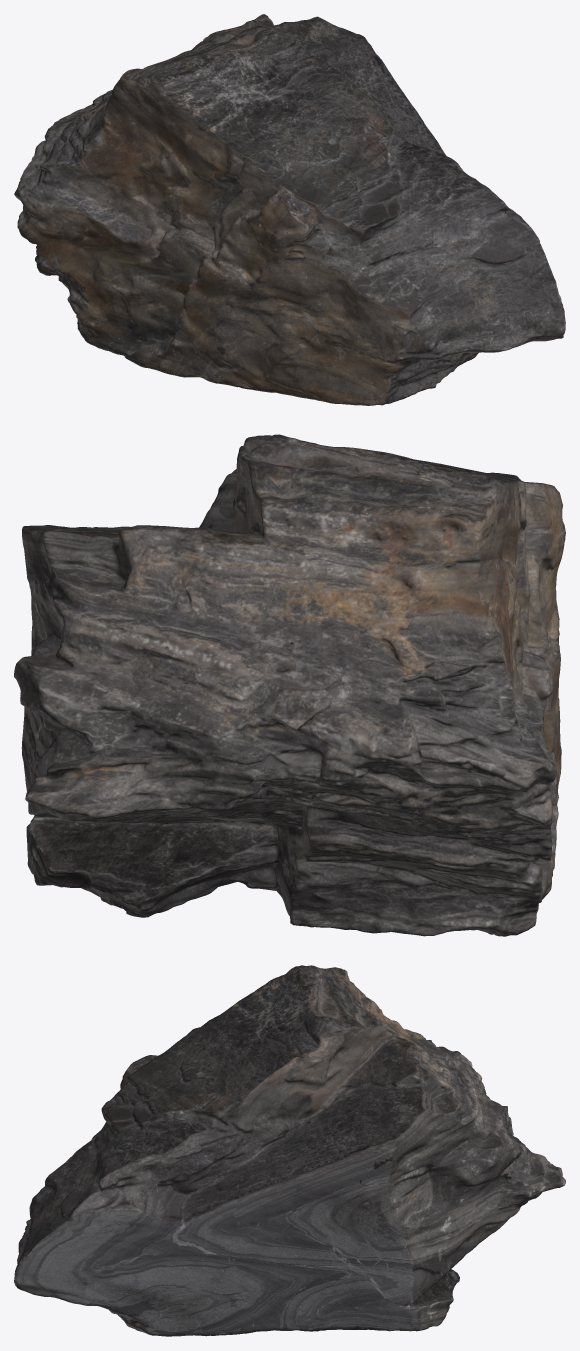
File: Main.glb
3 views of the same model, one above another, from view 1: azimuth 30°, elevation 25°; view 2: azimuth 150°, elevation 25°; view 3: azimuth 270°, elevation 25° (orthographic). The views are drawn at different scales.
Visible parts, largest first — view 1: Metashape to blender new atlas; view 2: Metashape to blender new atlas; view 3: Metashape to blender new atlas.
Part boxes in pixels (x1,y1,x2,y2): Metashape to blender new atlas: (14,14,565,405); Metashape to blender new atlas: (14,434,565,936); Metashape to blender new atlas: (14,965,565,1336).
Size of the model in its own units: 0.1259 by 0.0959 by 0.18.
1 material, 1 textured.
